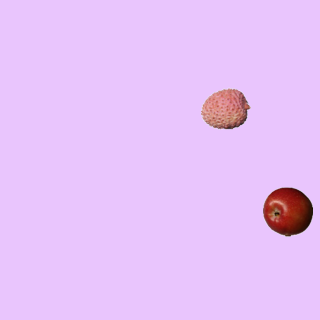Apple Braeburn: (262, 186, 312, 236)
Lychee: (200, 83, 250, 133)
